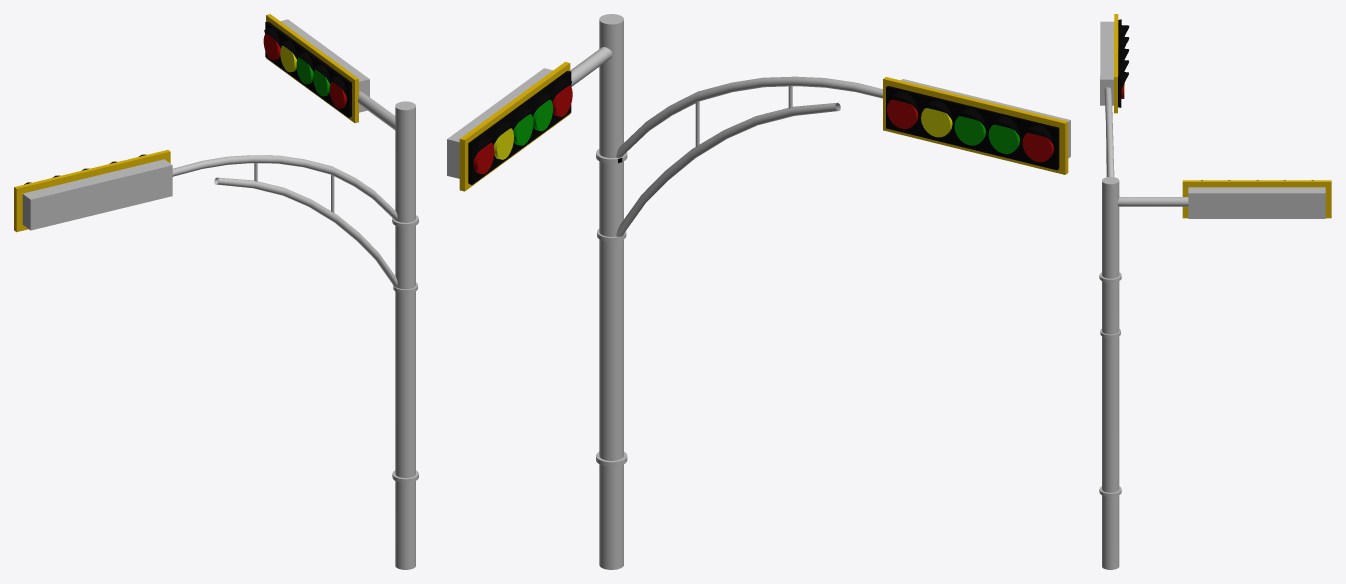
Rendered from FeuxCirculation.fbx.
3 views of the same model, side by side, from view 1: azimuth 30°, elevation 25°; view 2: azimuth 150°, elevation 25°; view 3: azimuth 270°, elevation 25° (orthographic). The views are drawn at different scales.
Visible parts, largest first — view 1: pCylinder6; view 2: pCylinder6; view 3: pCylinder6.
Part boxes in pixels (left/top/right/bottom): pCylinder6: left=14, top=14, right=418, bottom=569; pCylinder6: left=447, top=14, right=1070, bottom=569; pCylinder6: left=1099, top=14, right=1331, bottom=569.
Size of the model in its own units: 20.58 by 23.18 by 12.37.
